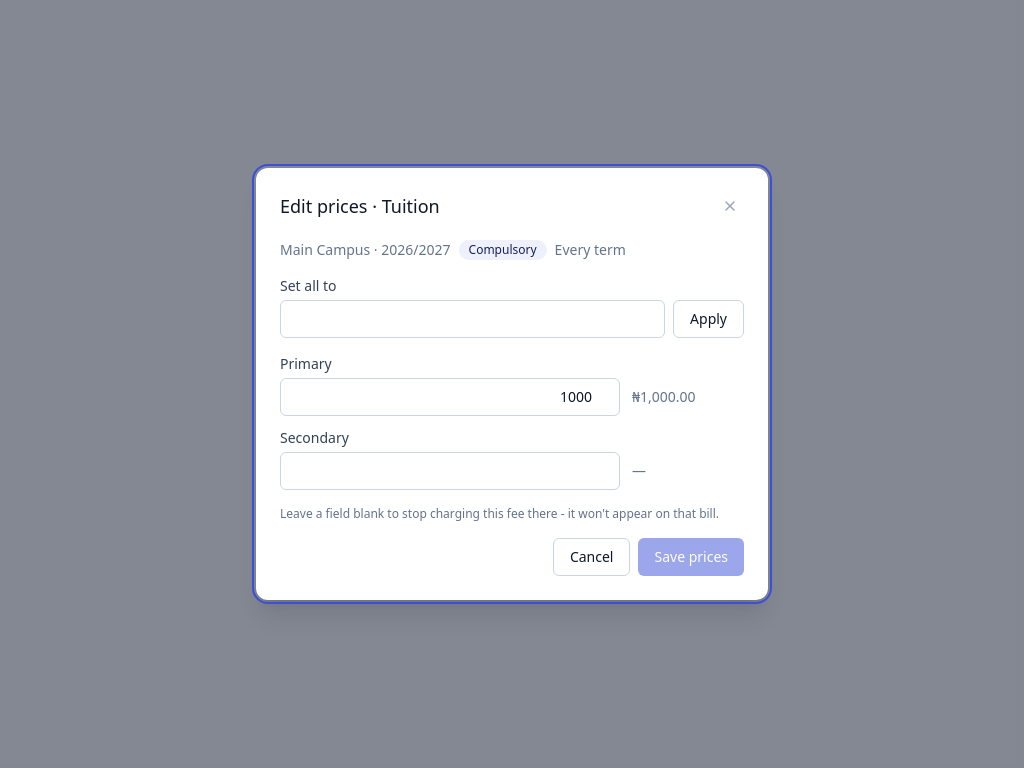
Test case: FeePricesModal › Set all to fills every applicable level
The image size is (1024, 768).
Type "5000" into the number field labelled "Set all to" at (473, 319), box 280,300 -> 665,338
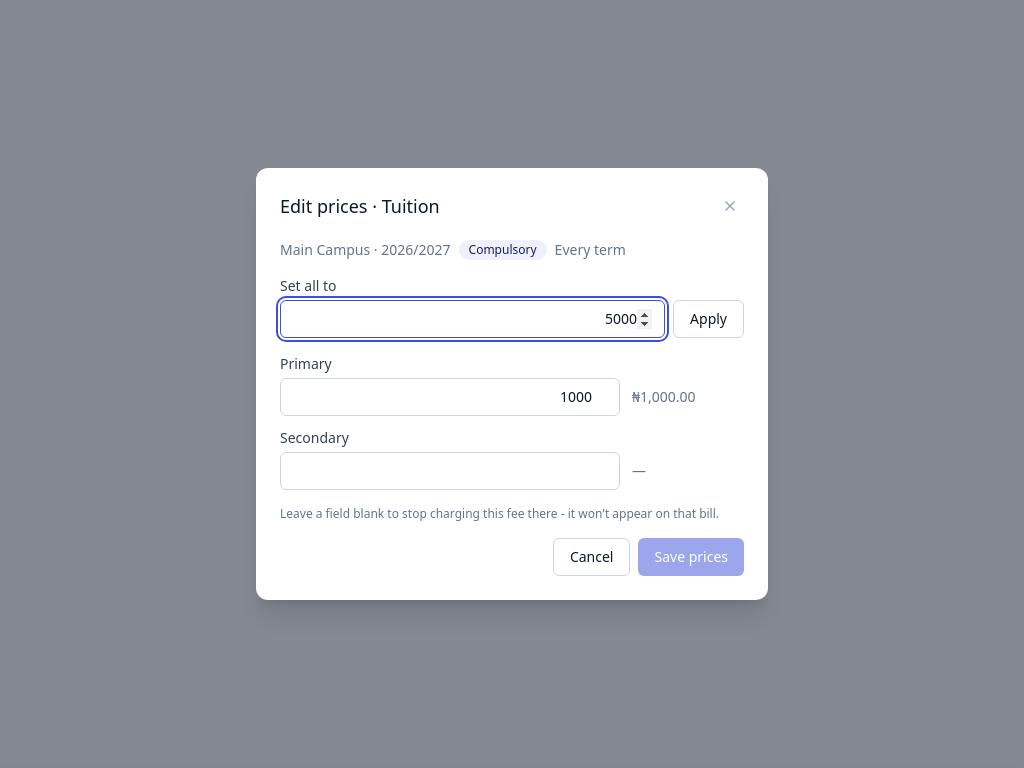
Click the button "Apply" at (709, 319), box 673,300 -> 744,338
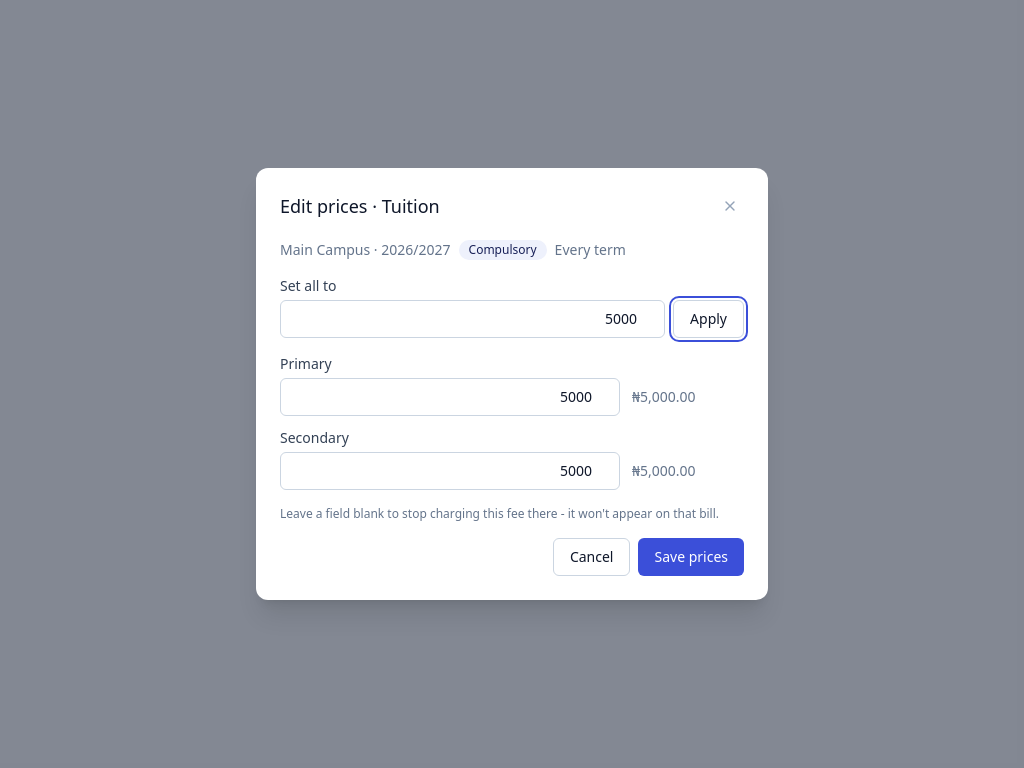
Now the number field named "Tuition price for Primary" holds "5000", box 280,378 -> 620,416
Now the number field named "Tuition price for Secondary" holds "5000", box 280,452 -> 620,490
